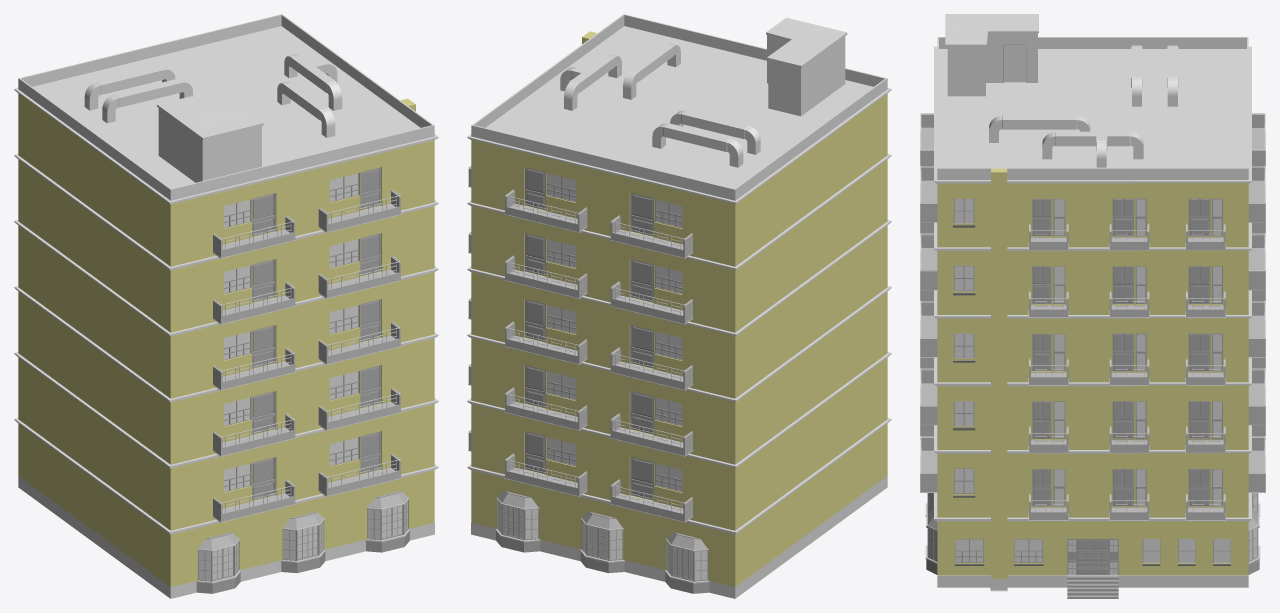
The model's file is House #2.fbx.
The picture shows the model from 3 angles, left to right: view 1: azimuth 30°, elevation 25°; view 2: azimuth 150°, elevation 25°; view 3: azimuth 270°, elevation 25°; orthographic projection. The views are drawn at different scales.
Parts seen in each view (by area): view 1: Floors, Roof, Ground Floor, side windows; view 2: Floors, Roof, Ground Floor, side windows; view 3: Floors, Roof, Ground Floor, Main Door, side windows, Stairs.
Boxes of the visible parts, <box> form: Floors: <box>14,154,438,530</box>; Roof: <box>14,14,438,266</box>; Ground Floor: <box>14,418,438,598</box>; side windows: <box>196,491,410,593</box>; Floors: <box>467,154,891,530</box>; Roof: <box>467,14,891,266</box>; Ground Floor: <box>467,418,891,598</box>; side windows: <box>495,491,709,593</box>; Floors: <box>920,222,1265,521</box>; Roof: <box>920,14,1265,251</box>; Ground Floor: <box>934,493,1251,591</box>; Main Door: <box>1067,539,1118,574</box>; side windows: <box>925,493,1260,574</box>; Stairs: <box>1067,575,1118,598</box>.
Bounding box in the file's own units: 220 × 325 × 222.
